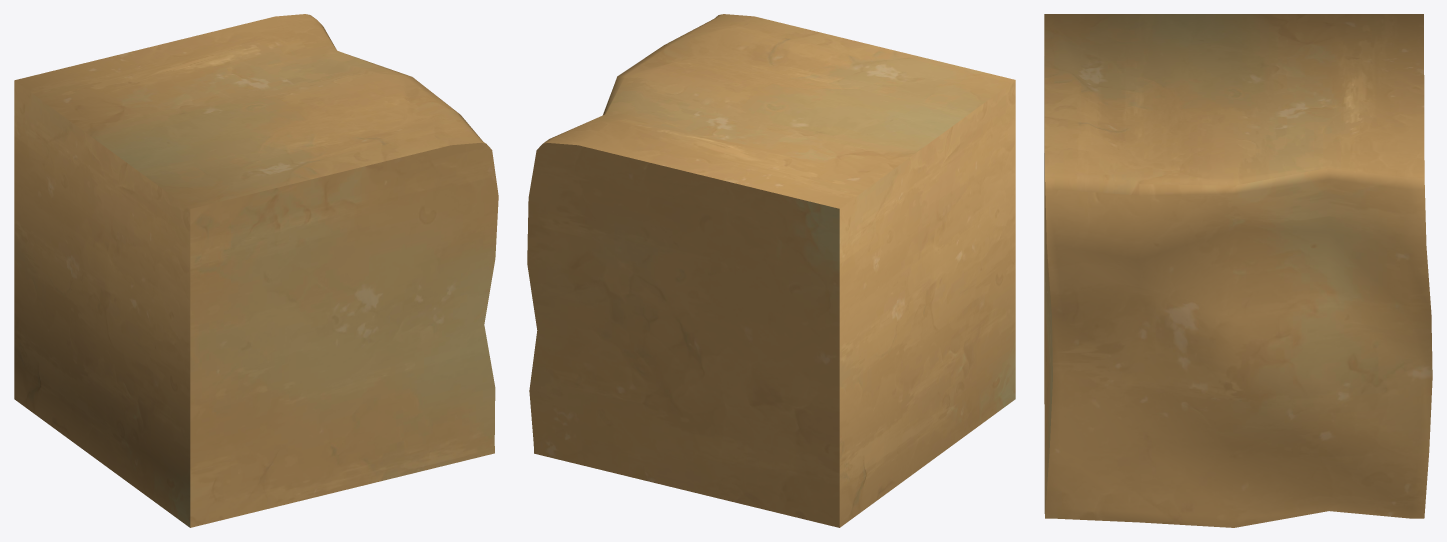
File: StoneWallTop.fbx
The picture shows the model from 3 angles, left to right: view 1: azimuth 30°, elevation 25°; view 2: azimuth 150°, elevation 25°; view 3: azimuth 270°, elevation 25°; orthographic projection. The views are drawn at different scales.
Visible parts, largest first — view 1: StoneWallTop; view 2: StoneWallTop; view 3: StoneWallTop.
Part boxes in pixels (x1,y1,x2,y2): StoneWallTop: (14, 14, 498, 527); StoneWallTop: (527, 14, 1015, 527); StoneWallTop: (1044, 14, 1432, 527).
Size of the model in its own units: 221 by 204 by 205.
